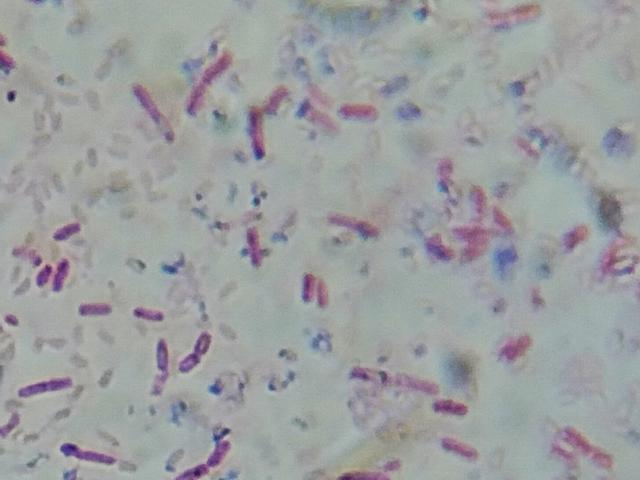E. coli: (181, 47, 230, 118), (549, 426, 613, 474), (162, 440, 234, 480), (346, 360, 439, 389), (135, 77, 171, 149), (179, 330, 218, 385), (11, 373, 76, 402), (59, 436, 113, 470), (245, 99, 271, 167), (328, 210, 377, 239), (338, 96, 382, 125), (453, 222, 493, 253), (439, 432, 486, 458), (499, 329, 529, 368), (301, 272, 329, 312), (243, 222, 267, 266), (145, 336, 171, 373), (262, 85, 294, 114), (132, 302, 172, 325), (425, 393, 466, 414), (53, 256, 75, 295), (466, 182, 488, 216), (49, 216, 78, 241), (75, 297, 107, 319), (562, 219, 584, 251), (31, 256, 51, 285), (488, 212, 511, 233)
